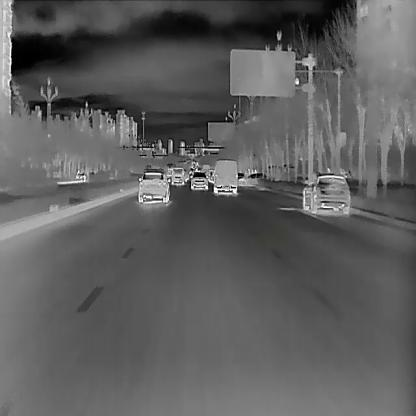car: (301, 172, 349, 216), (137, 172, 169, 203), (212, 158, 236, 195), (188, 172, 208, 190), (239, 173, 267, 185), (171, 169, 183, 185)
